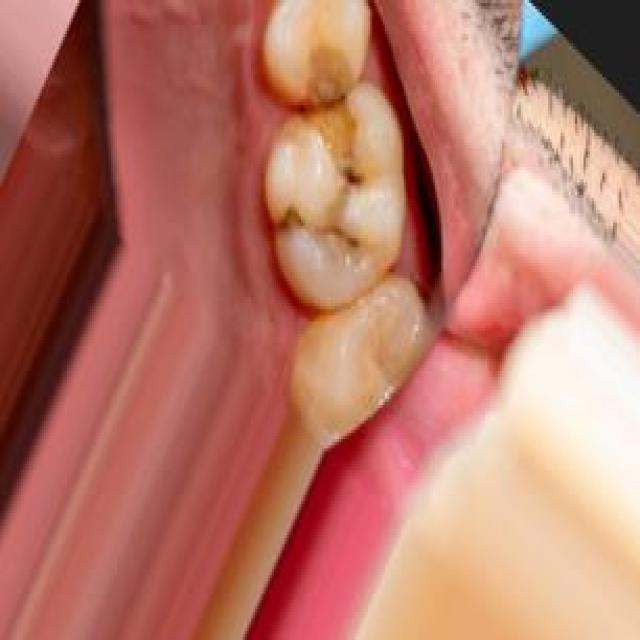caries: (294, 31, 362, 156), (312, 210, 367, 265), (272, 189, 311, 251), (338, 155, 376, 202)
